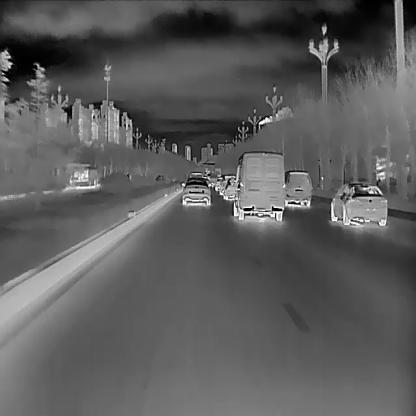car: (231, 150, 284, 221), (330, 182, 388, 224), (283, 169, 311, 206), (180, 179, 211, 206), (219, 174, 238, 196), (224, 177, 237, 199), (187, 172, 202, 181), (215, 176, 223, 191)
